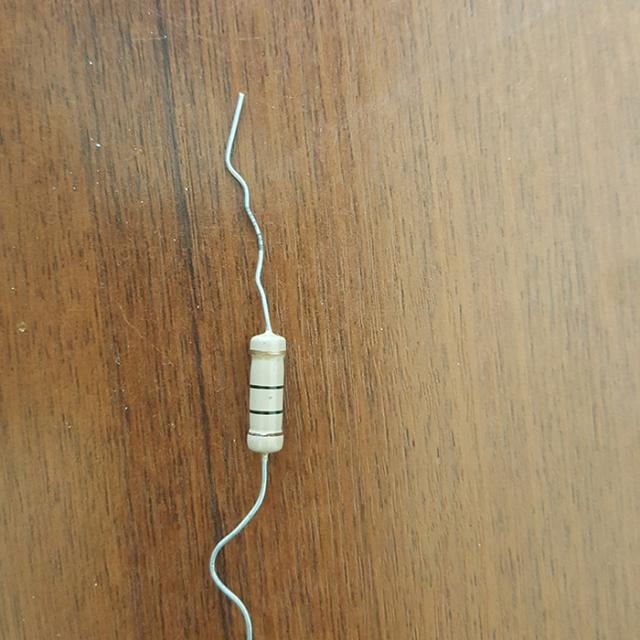black: (251, 384, 283, 390), (250, 410, 282, 415)
brown: (249, 432, 283, 437)
gold: (251, 349, 284, 356)
resistor: (226, 326, 307, 469)
